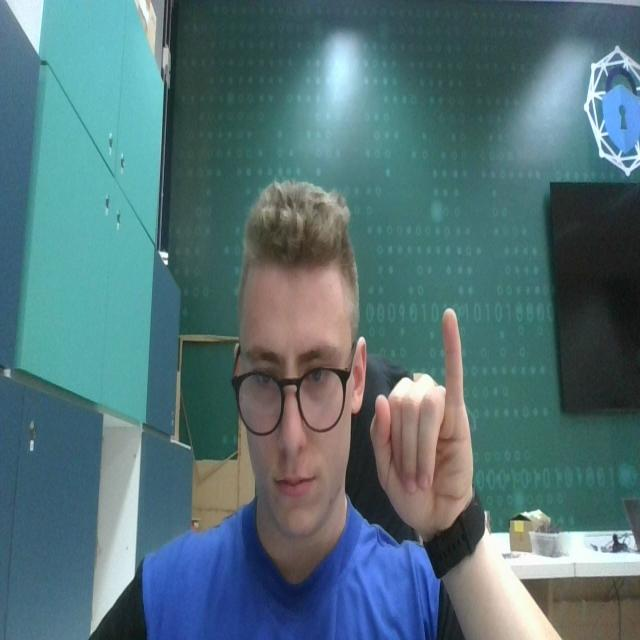I: (367, 311, 479, 517)
